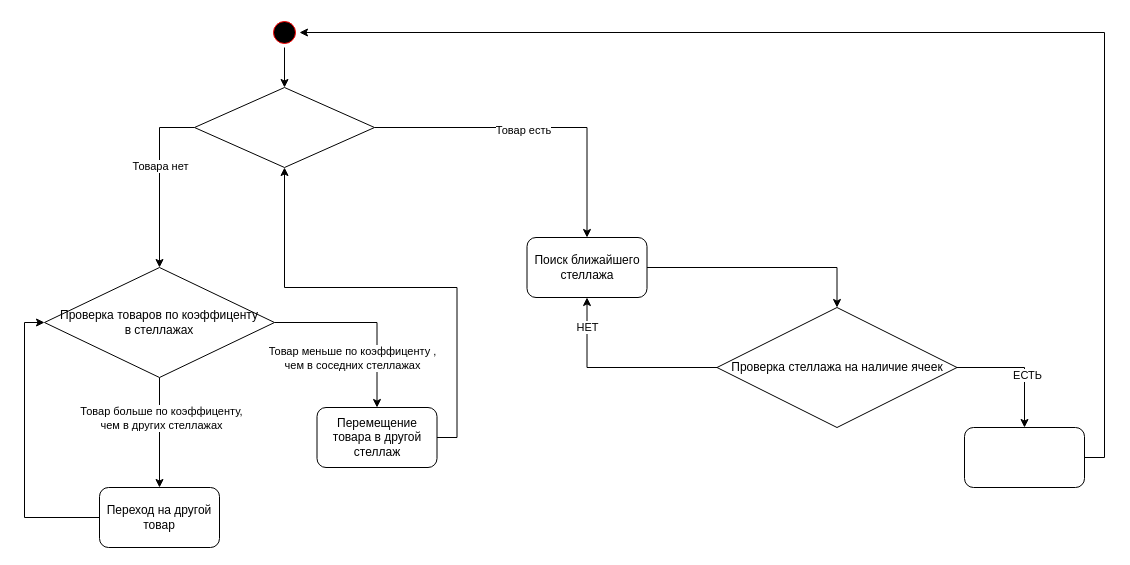
Some shapes in this 1130 by 565 pixel diagram are drawn without their labels. The centre of each missing label's shape, as x and y in pixels:
Заполнение ячейки товаром: (x=1024, y=457)
Проверка на наличие товара: (x=284, y=127)
